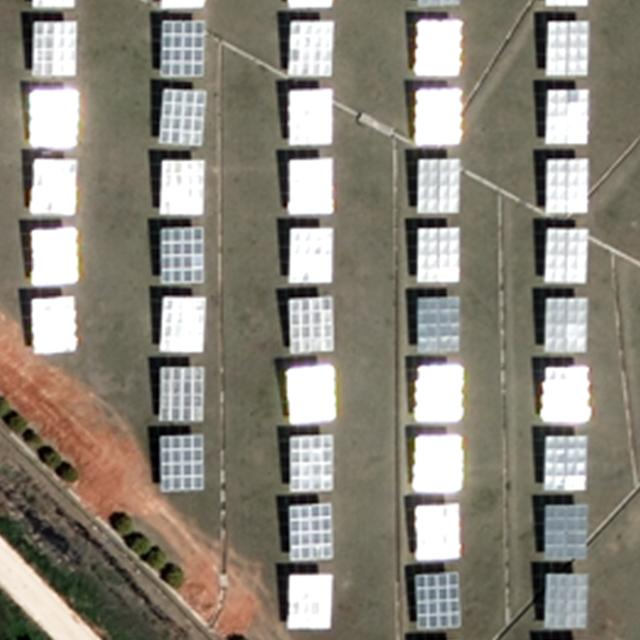panel: (286, 358, 339, 428), (286, 289, 337, 357), (413, 85, 466, 148), (28, 226, 79, 291), (282, 156, 335, 218), (27, 295, 79, 358), (282, 86, 334, 148), (30, 86, 81, 149), (284, 224, 335, 286), (158, 17, 207, 81), (412, 18, 464, 78), (285, 19, 337, 79), (540, 364, 591, 425), (158, 431, 208, 491), (159, 225, 205, 290), (31, 17, 79, 79), (540, 571, 590, 630), (157, 295, 206, 355), (28, 157, 77, 216), (541, 226, 590, 285), (158, 88, 206, 148), (156, 364, 202, 425), (285, 433, 331, 493), (289, 501, 335, 561), (411, 569, 457, 629), (543, 155, 589, 215), (414, 294, 460, 354), (541, 504, 589, 561), (541, 87, 589, 144), (286, 574, 336, 628), (540, 435, 587, 492), (417, 154, 460, 216), (159, 160, 206, 216), (542, 18, 587, 76), (416, 226, 460, 282), (542, 297, 586, 348)
